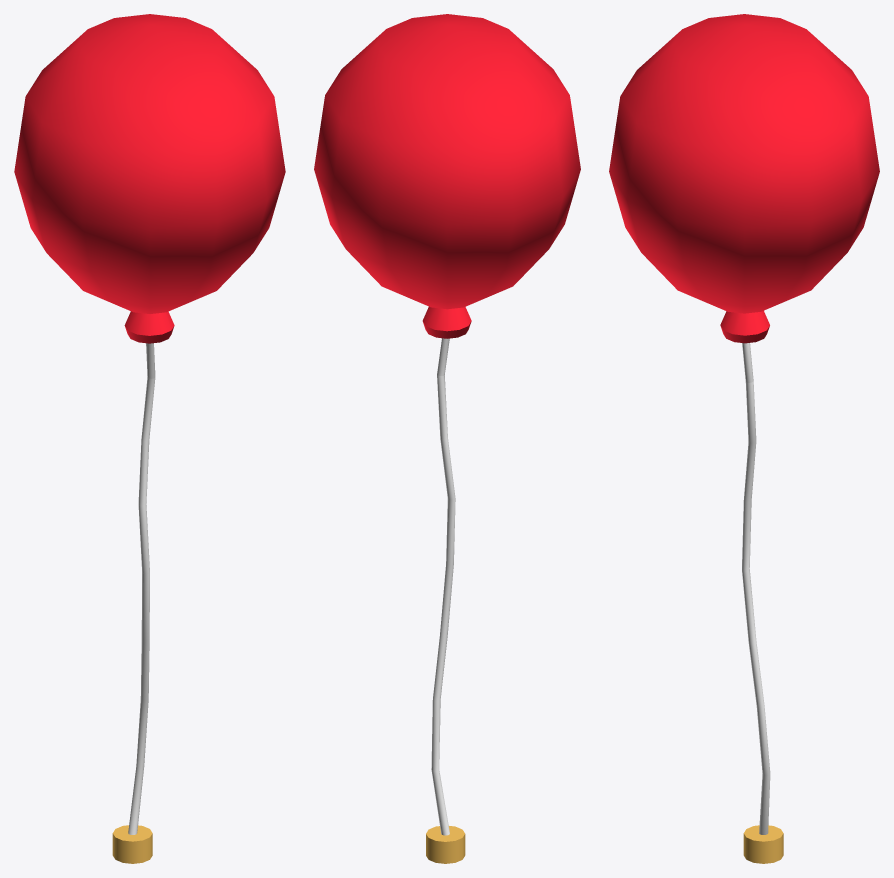
Rendered from Pungsun1-2.fbx.
3 views of the same model, side by side, from view 1: azimuth 30°, elevation 25°; view 2: azimuth 150°, elevation 25°; view 3: azimuth 270°, elevation 25° (orthographic).
Parts seen in each view (by area): view 1: Pungsun1-2; view 2: Pungsun1-2; view 3: Pungsun1-2.
Part boxes in pixels (x1,y1,x2,y2): Pungsun1-2: [14, 14, 285, 863]; Pungsun1-2: [314, 14, 580, 863]; Pungsun1-2: [609, 14, 879, 863].
Size of the model in its own units: 0.2115 by 0.7189 by 0.2115.
